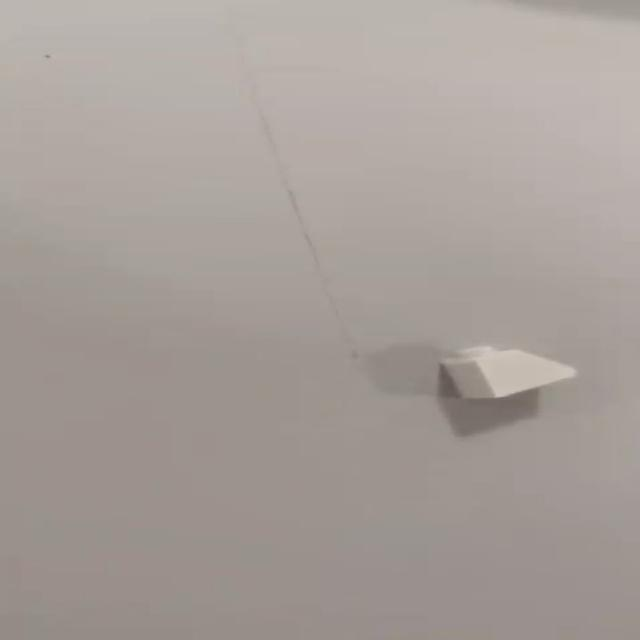P1x2x1: (442, 344, 583, 405)
